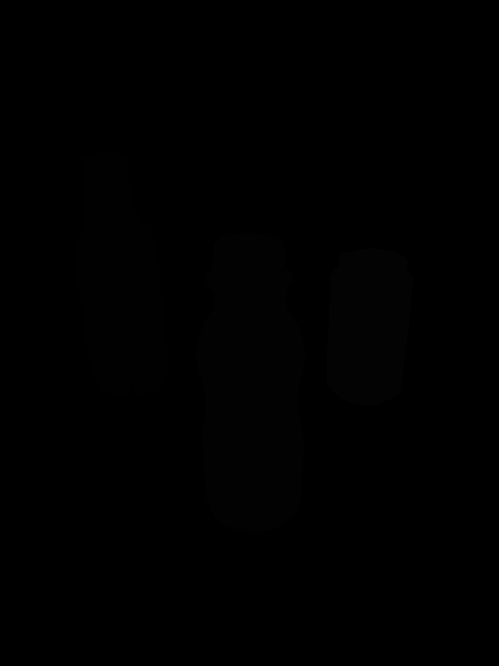can: (324, 246, 415, 410)
milk_bottle: (192, 229, 308, 534)
water_bottle: (72, 150, 172, 399)
